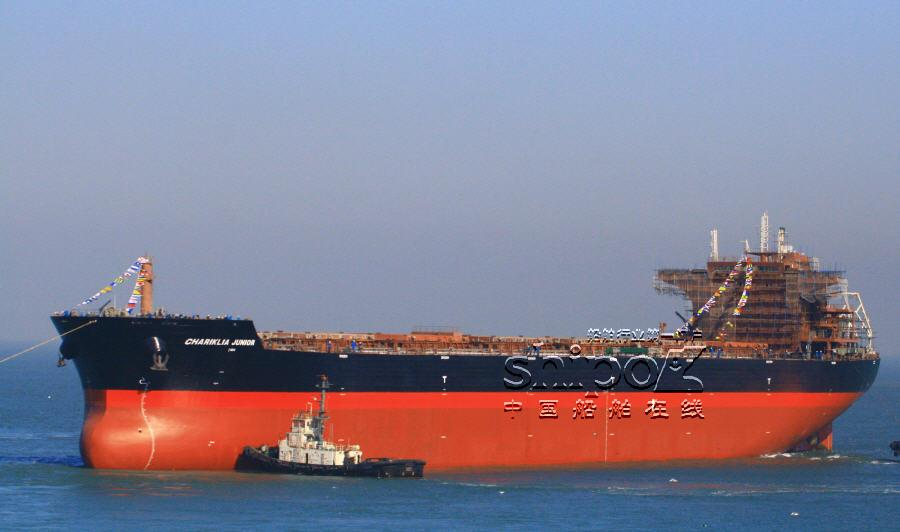Cargoship: (47, 203, 877, 478)
otherboat: (230, 378, 413, 488)
